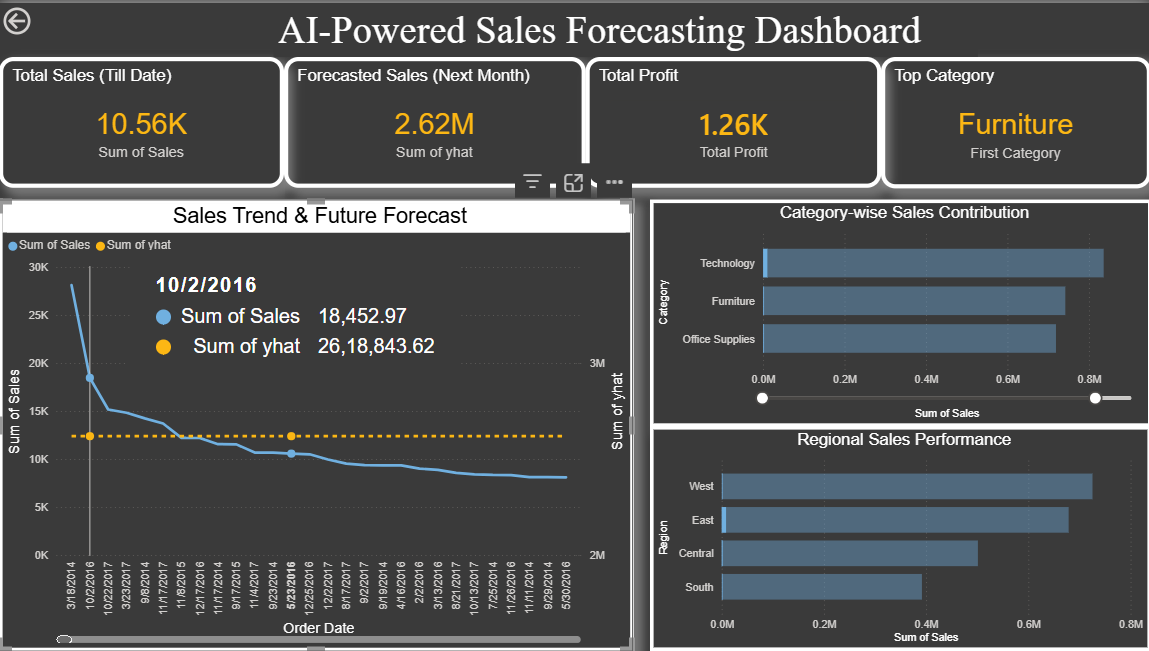

This screenshot's page, from the dashboard's own definition file:
{"tool":"powerbi","page":{"name":"Page 1","canvas":[1280,720],"ordinal":0},"visuals":[{"type":"lineChart","title":"Sales Trend & Future Forecast","fields":{"Category":["superstore.Order Date"],"Y":["Sum(superstore.Sales)"],"Y2":["Sum(sales_forecast.yhat)"]},"box":[0,218.3,705,501.7],"z":0},{"type":"actionButton","box":[0,0,100,40],"z":6},{"type":"card","title":"Forecasted Sales (Next Month)","fields":{"Values":["Sum(sales_forecast.yhat)"]},"box":[316.7,60,335,145],"z":7},{"type":"card","title":"Top Category","fields":{"Values":["Min(superstore.Category)"]},"box":[980.6,59.6,299.8,145.8],"z":8},{"type":"card","title":"Total Sales (Till Date)","fields":{"Values":["Sum(superstore.Sales)"]},"box":[0,60,316.7,145],"z":9},{"type":"cardVisual","title":"Total Profit","fields":{"Data":["superstore.Total Profit"]},"box":[651.7,60,328.3,145],"z":10},{"type":"clusteredBarChart","title":"Category-wise Sales Contribution","fields":{"Category":["superstore.Category"],"Y":["Sum(superstore.Sales)"]},"box":[722.5,217.5,557.5,252.5],"z":11},{"type":"barChart","title":" Regional Sales Performance","fields":{"Category":["superstore.Region"],"Y":["Sum(superstore.Sales)"]},"box":[723.3,470,556.7,250],"z":12},{"type":"textbox","box":[305,0,782.5,60],"z":13}]}

Visuals, with their boxes in screenshot pixels (x1, y1, x2, y2):
"Sales Trend & Future Forecast" lineChart: box(6, 196, 630, 640)
actionButton: box(6, 3, 95, 38)
"Forecasted Sales (Next Month)" card: box(286, 56, 583, 184)
"Top Category" card: box(874, 56, 1139, 185)
"Total Sales (Till Date)" card: box(6, 56, 286, 184)
"Total Profit" cardVisual: box(583, 56, 874, 184)
"Category-wise Sales Contribution" clusteredBarChart: box(646, 196, 1139, 419)
" Regional Sales Performance" barChart: box(646, 419, 1139, 640)
textbox: box(276, 3, 969, 56)
